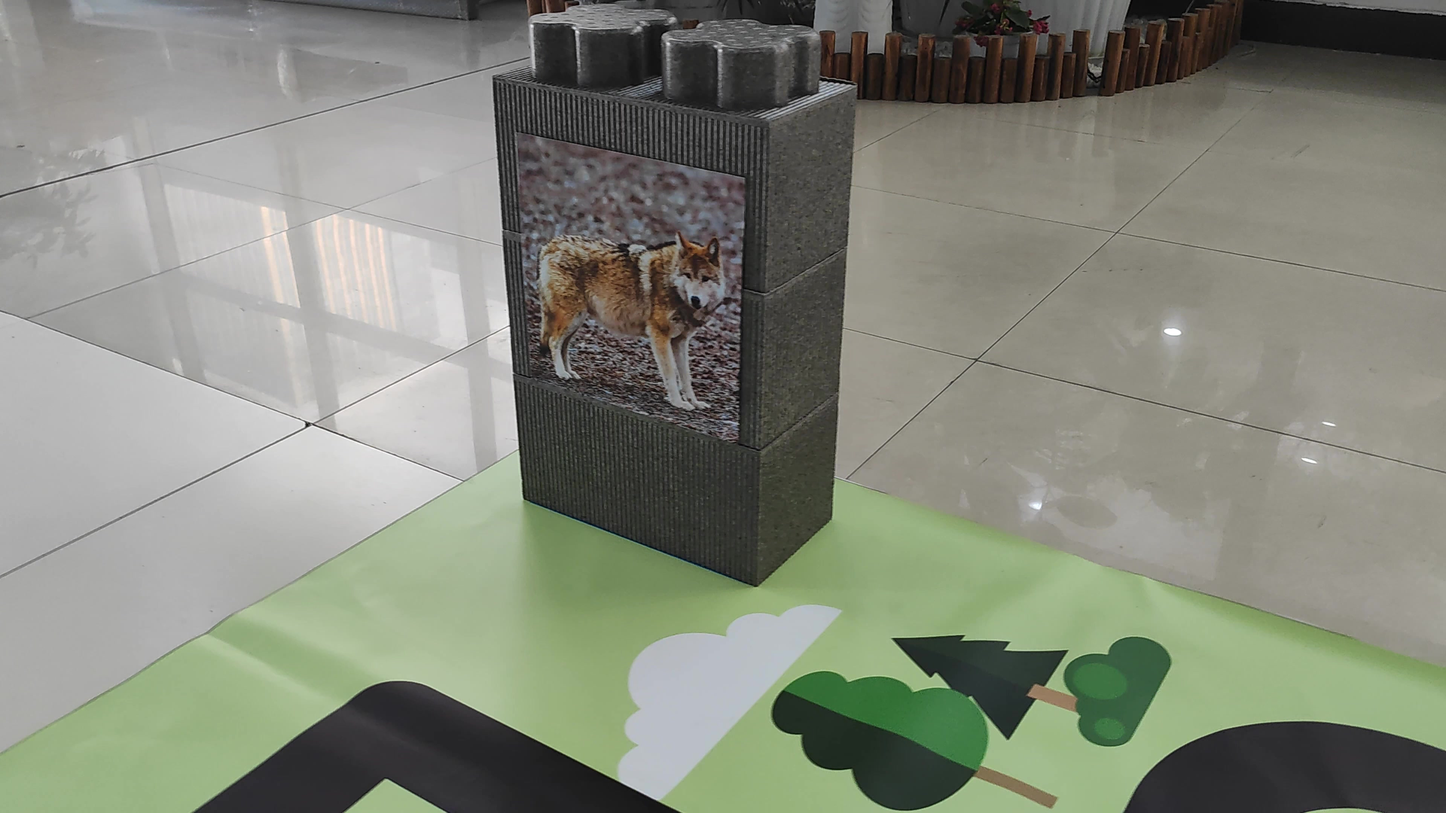wolf: (526, 211, 741, 427)
